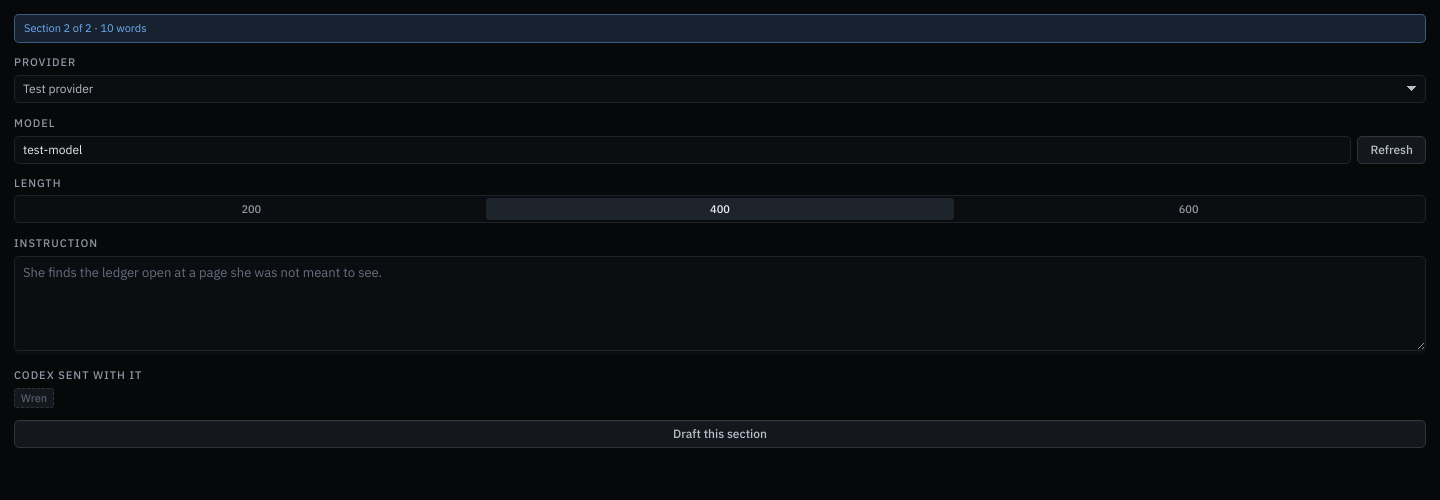
Test: WritePanel › reports a provider failure and offers nothing to apply
Check: the text "Section 2 of 2 · 10 words" is shown, box [14, 14, 1426, 43]
What coordinates should you click on to do the following:
click the button "Draft this section"
I would click on:
 (720, 434)
Its box is [14, 420, 1426, 448].
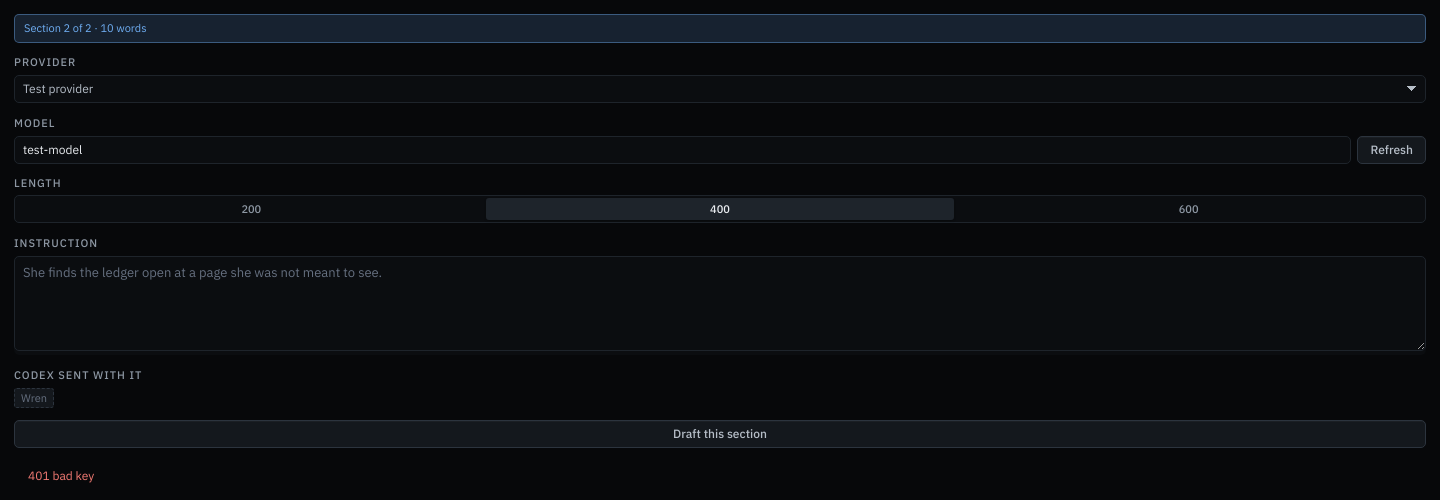
Check: the text "401 bad key" is shown, box [28, 468, 94, 483]
